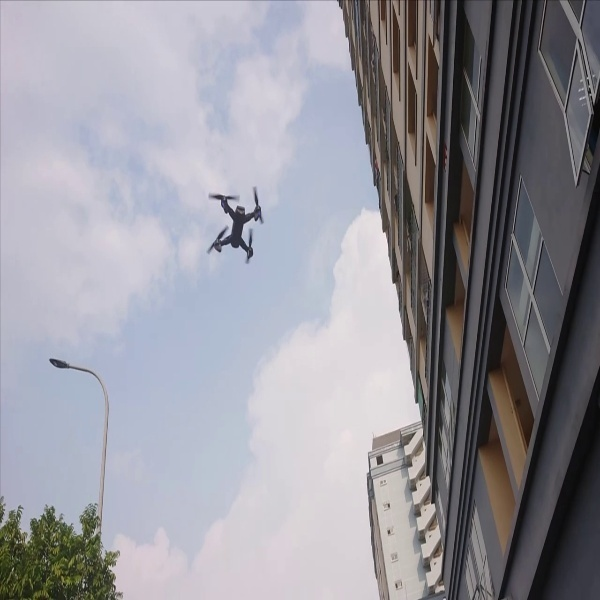drone: (198, 179, 273, 263)
